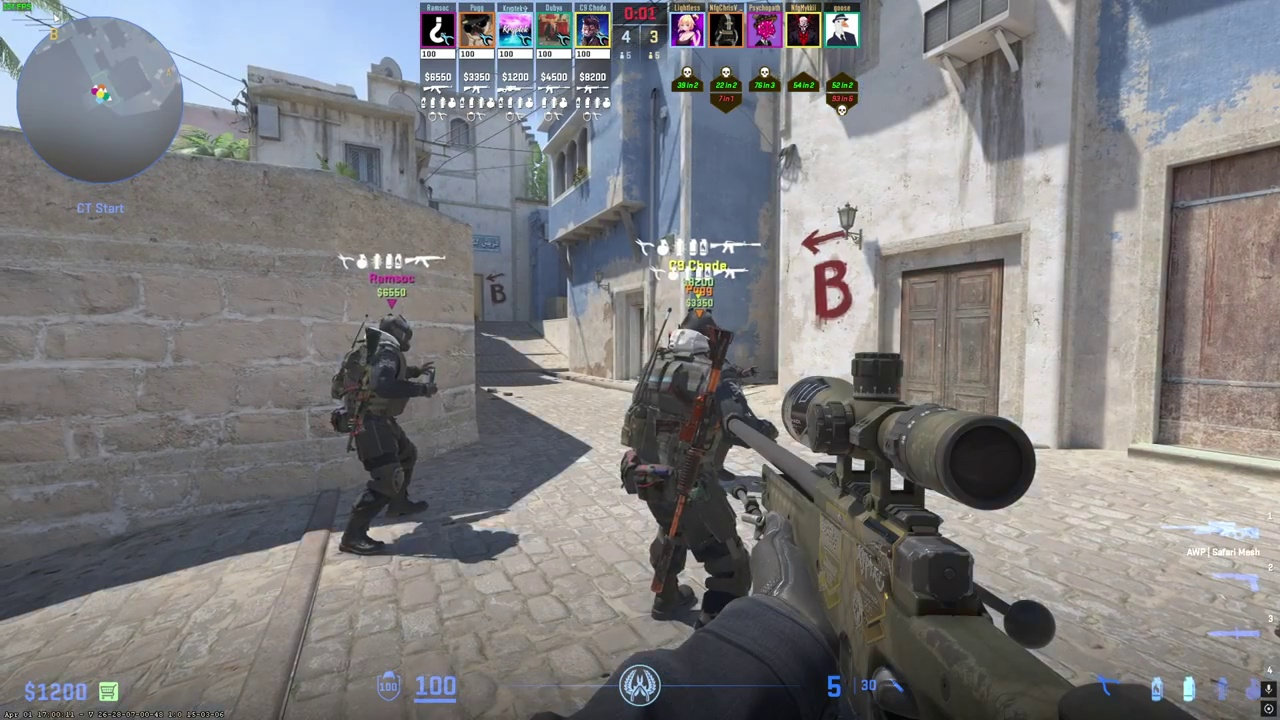CT: (630, 311, 756, 634), (338, 313, 426, 555)
